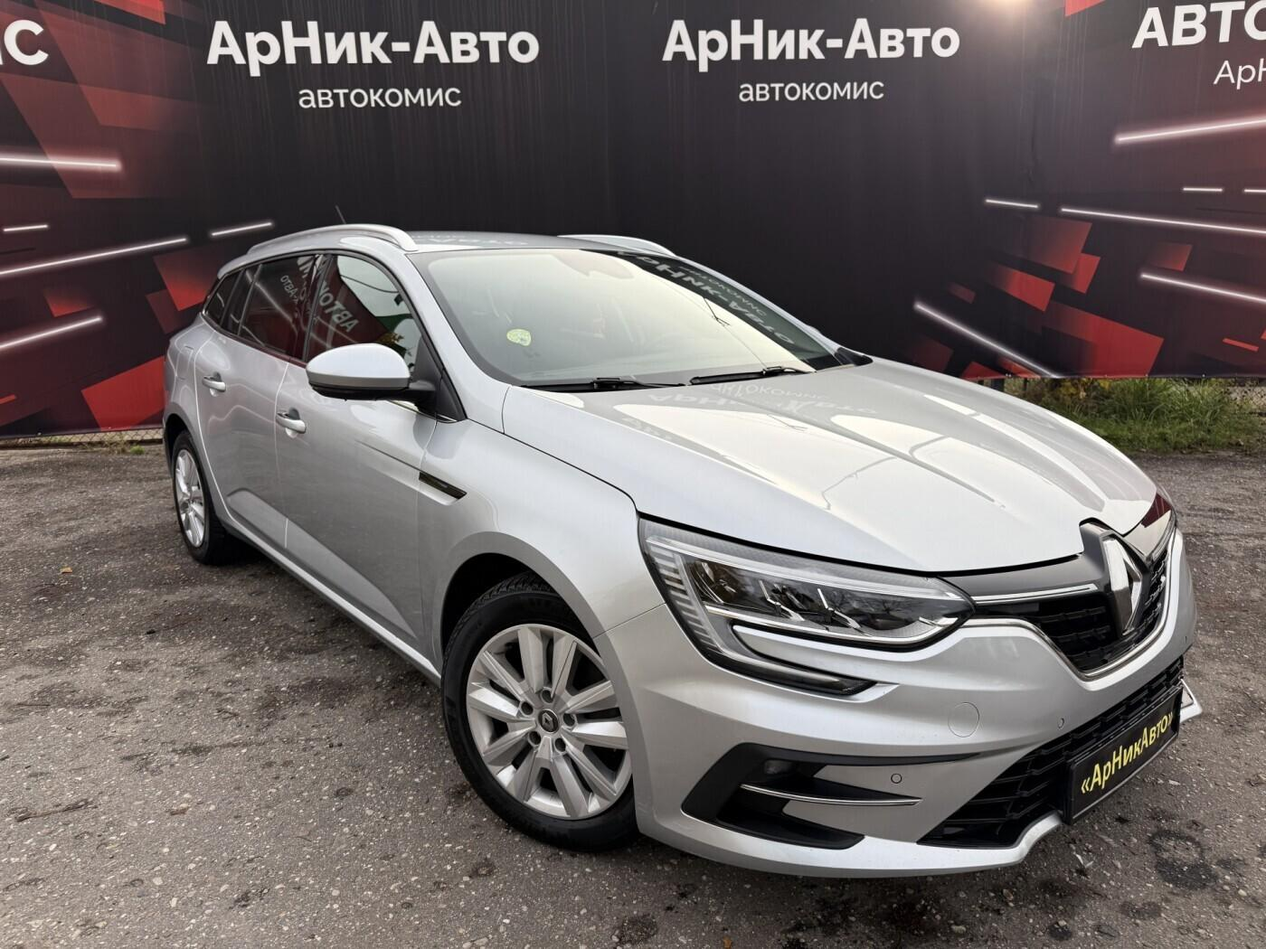Megane_2020: (150, 218, 1208, 892)
